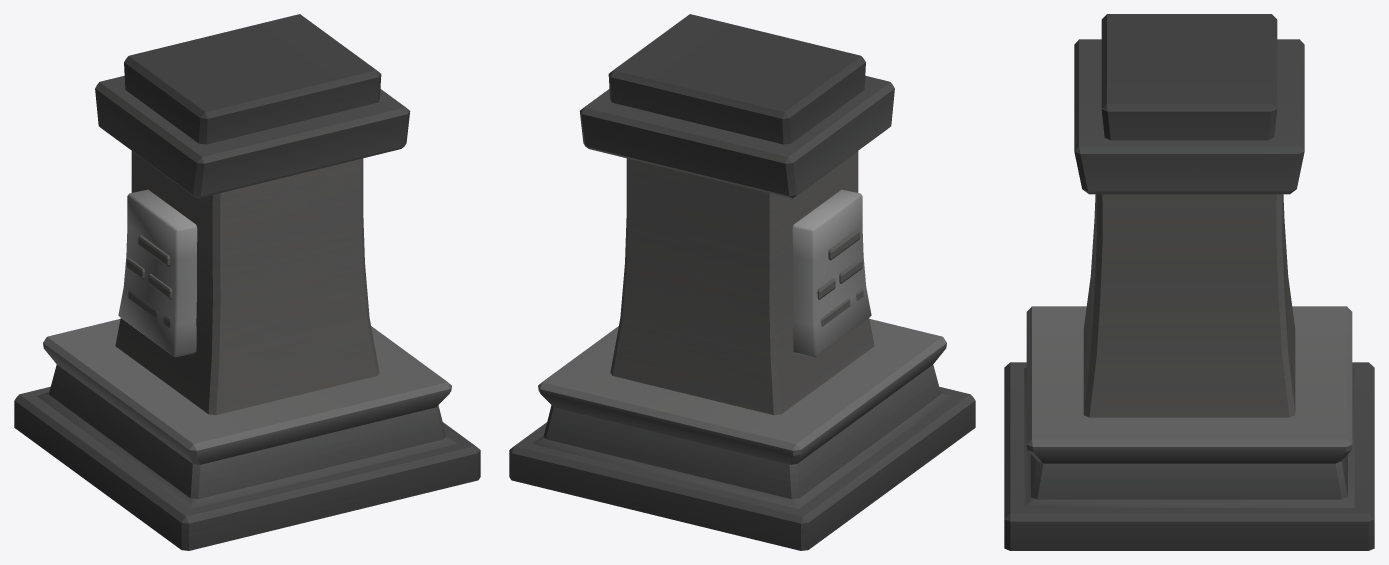
The model's file is Monument_1.obj.
The picture shows the model from 3 angles, left to right: view 1: azimuth 30°, elevation 25°; view 2: azimuth 150°, elevation 25°; view 3: azimuth 270°, elevation 25°; orthographic projection. The views are drawn at different scales.
Parts seen in each view (by area): view 1: Monument_1; view 2: Monument_1; view 3: Monument_1.
Part boxes in pixels (box(x1,y1,x2,y2)): Monument_1: box(14, 14, 480, 550); Monument_1: box(509, 14, 975, 550); Monument_1: box(1004, 14, 1374, 550).
Bounding box in the file's own units: 1.09 × 1.35 × 1.09.
